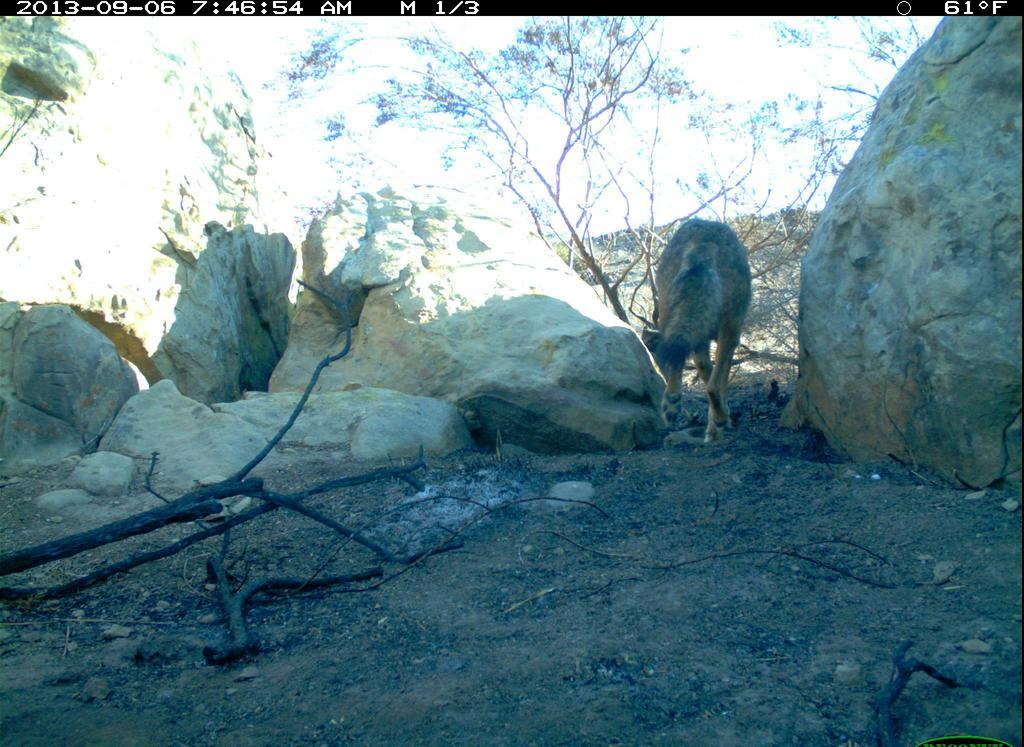coyote: (629, 203, 758, 463)
